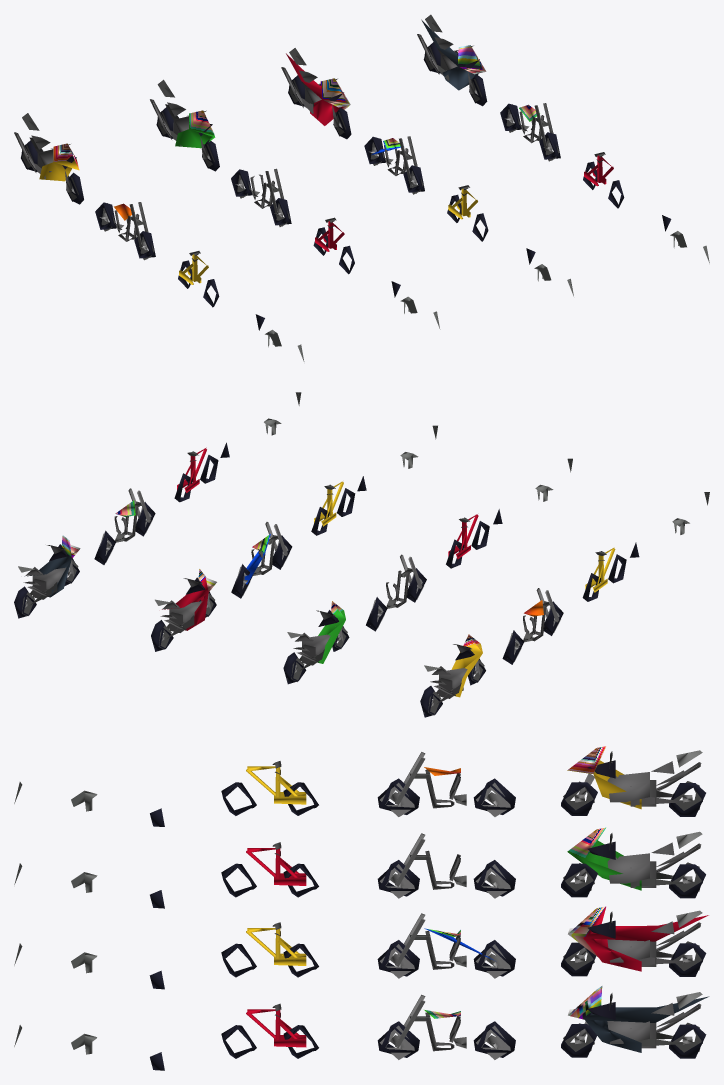
File: two_wheeler_pack.glb
The picture shows the model from 3 angles, top to bottom: view 1: azimuth 30°, elevation 25°; view 2: azimuth 150°, elevation 25°; view 3: azimuth 270°, elevation 25°; orthographic projection. The views are drawn at different scales.
Size of the model in its own units: 64.74 by 8.29 by 72.79.
1 material, 1 textured.
